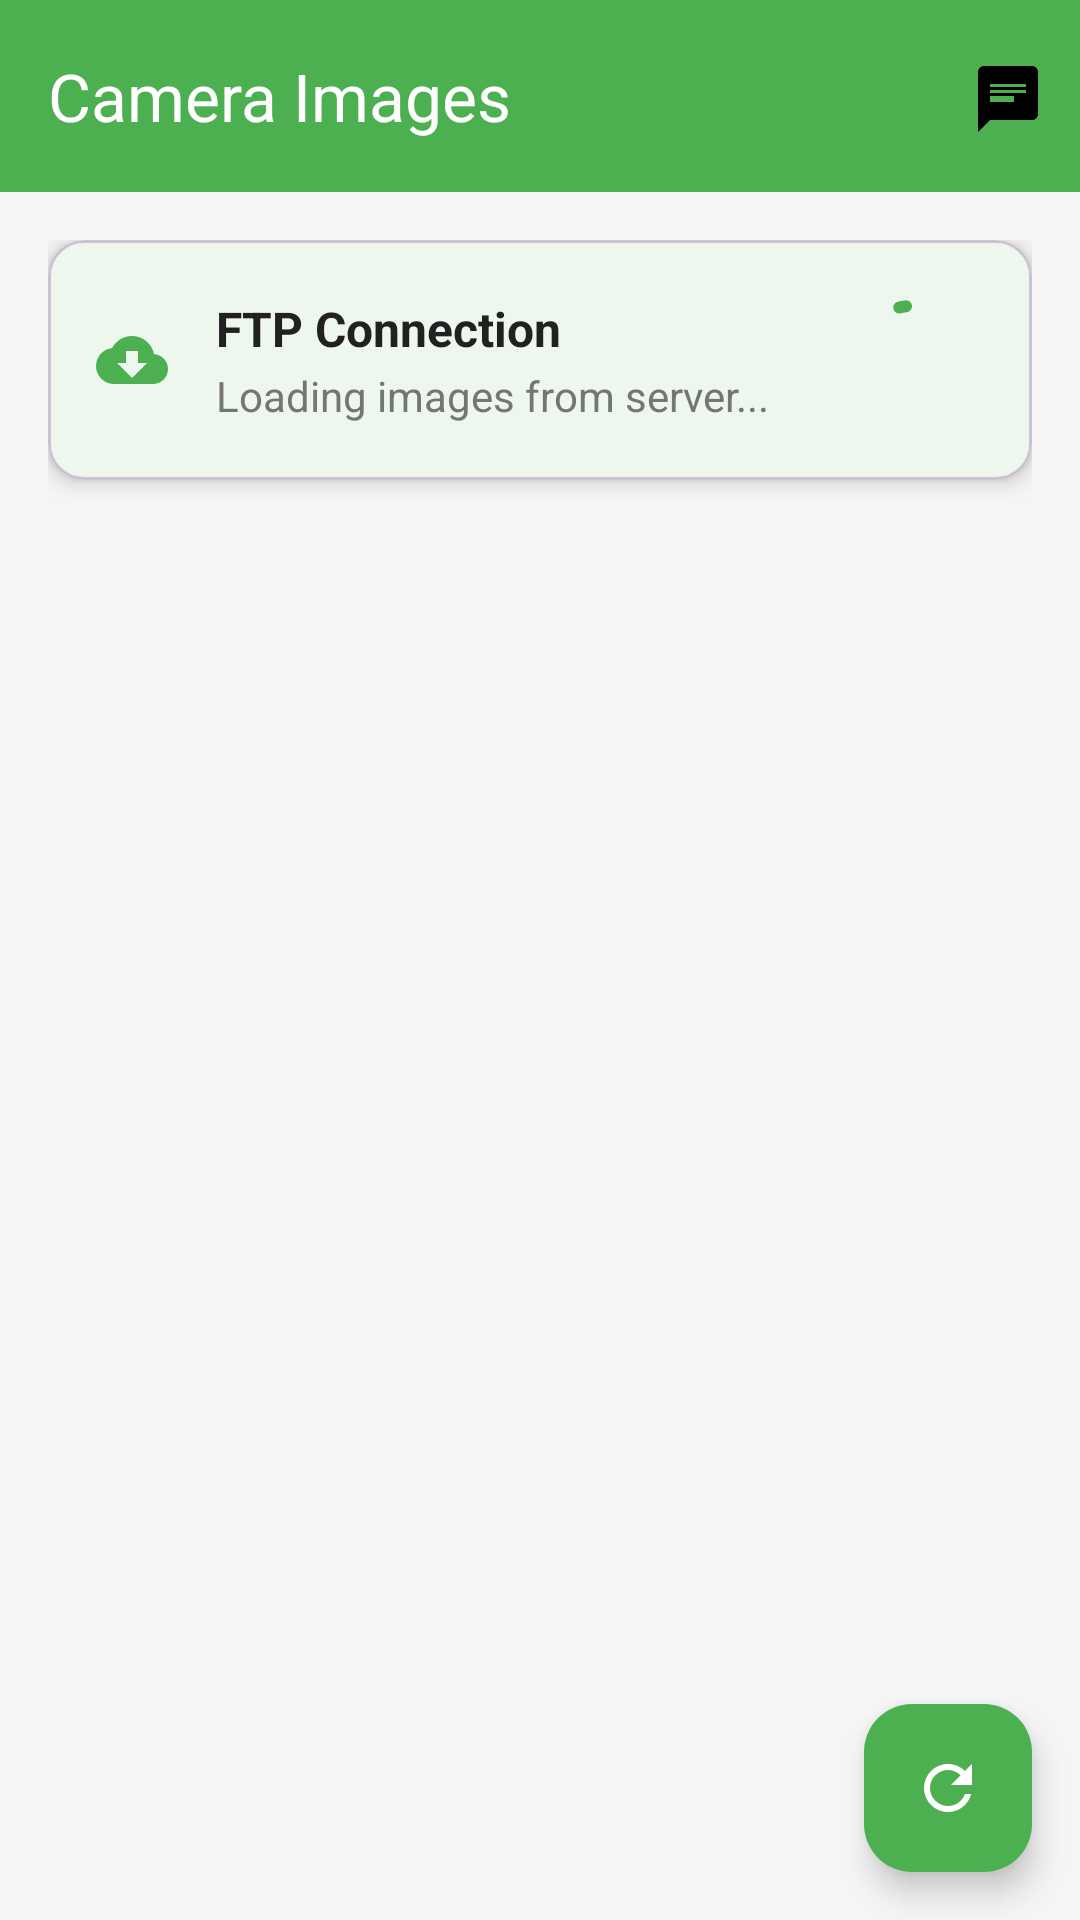

Where to tap for icons on this 1080px x 1920px app screen, as [x,y]:
cloud download: [132,360]
refresh: [948,1788]
